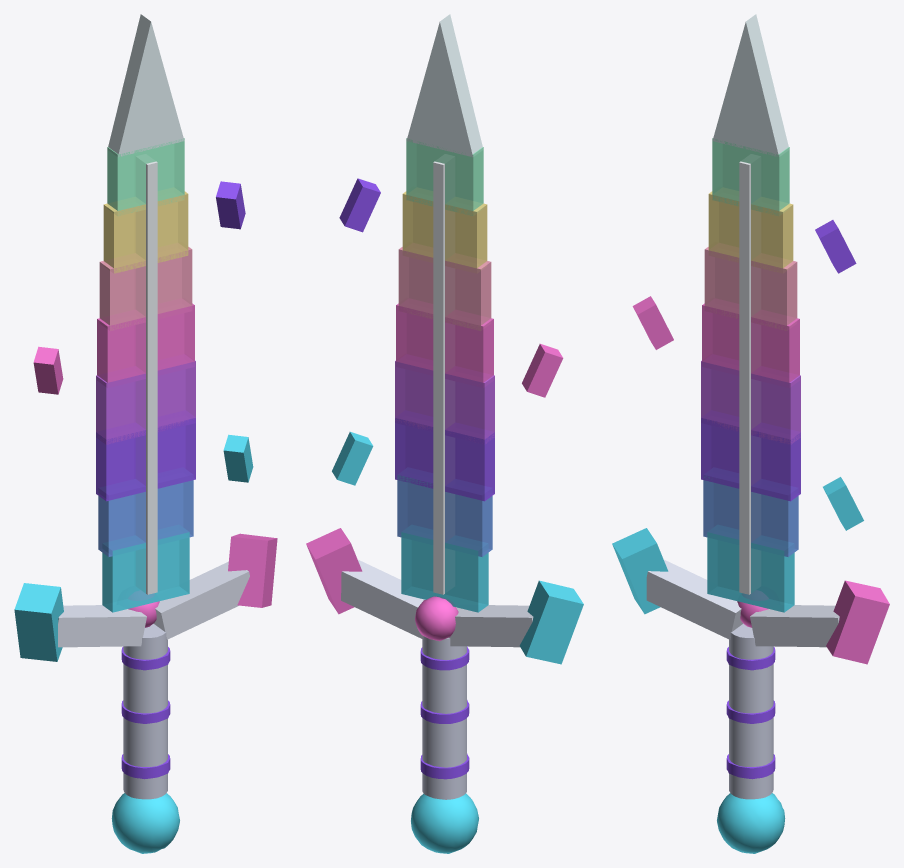
Rendered from prism_blade.obj.
3 views of the same model, side by side, from view 1: azimuth 30°, elevation 25°; view 2: azimuth 150°, elevation 25°; view 3: azimuth 330°, elevation 25° (orthographic).
Visible parts, largest first — view 1: prism_blade; view 2: prism_blade; view 3: prism_blade.
Boxes of the visible parts, left/top/right/bottom form: prism_blade: left=14, top=14, right=277, bottom=853; prism_blade: left=306, top=14, right=583, bottom=853; prism_blade: left=612, top=14, right=889, bottom=853.
Bounding box in the file's own units: 2.11 × 6.2 × 0.48.
